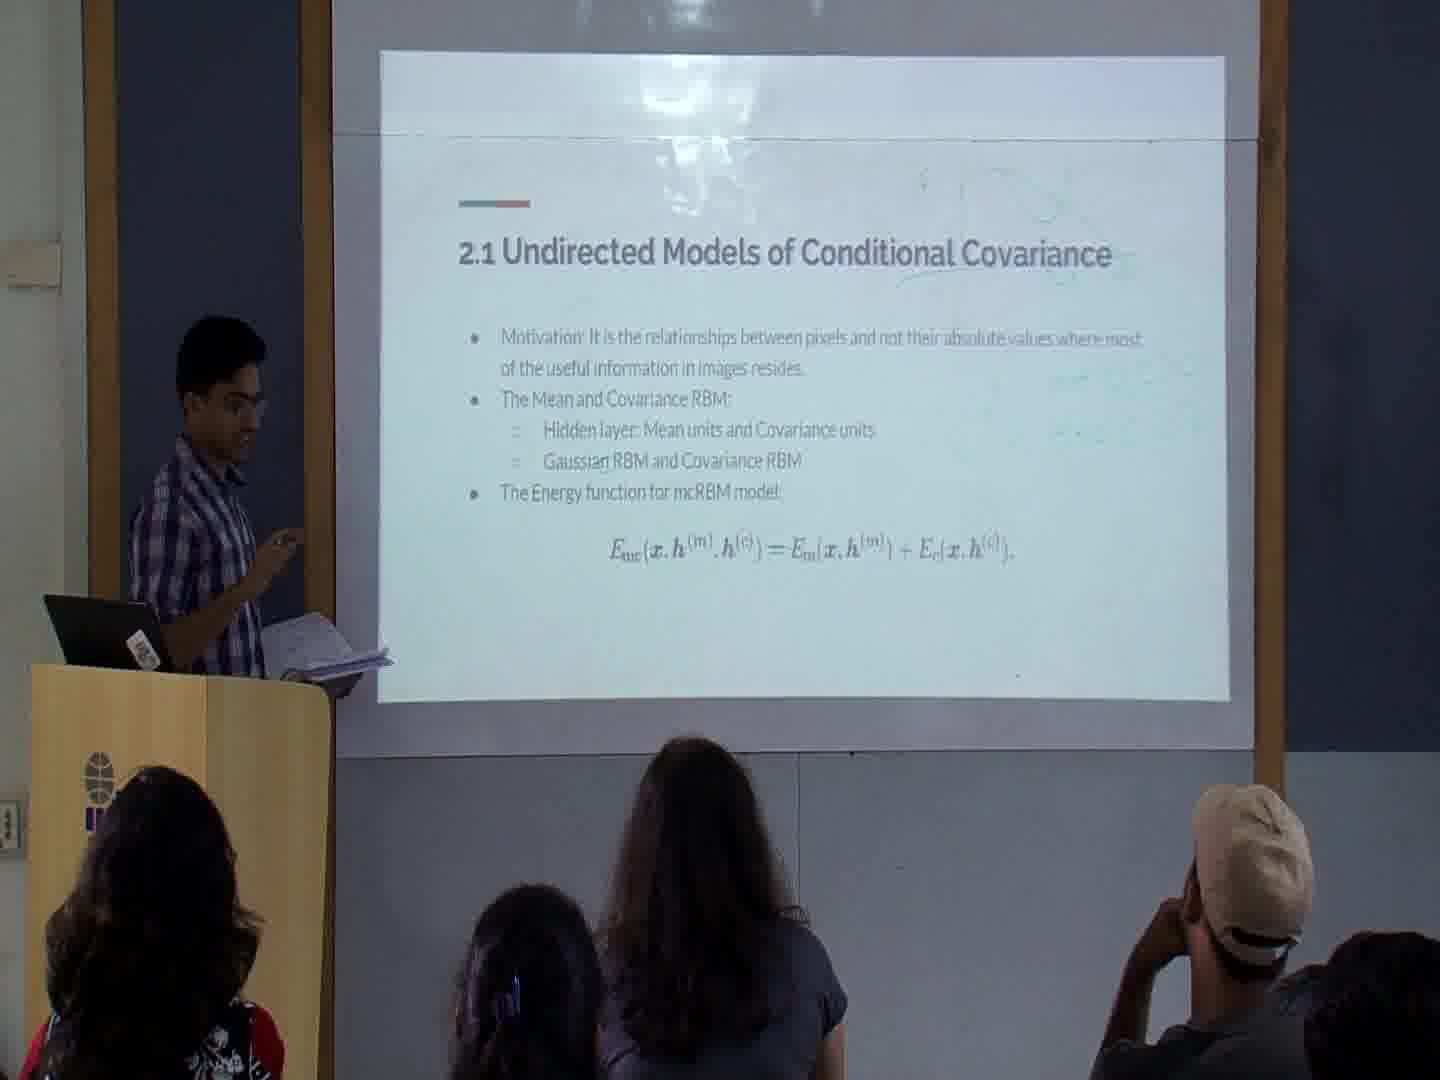eq: (605, 525, 1020, 569)
